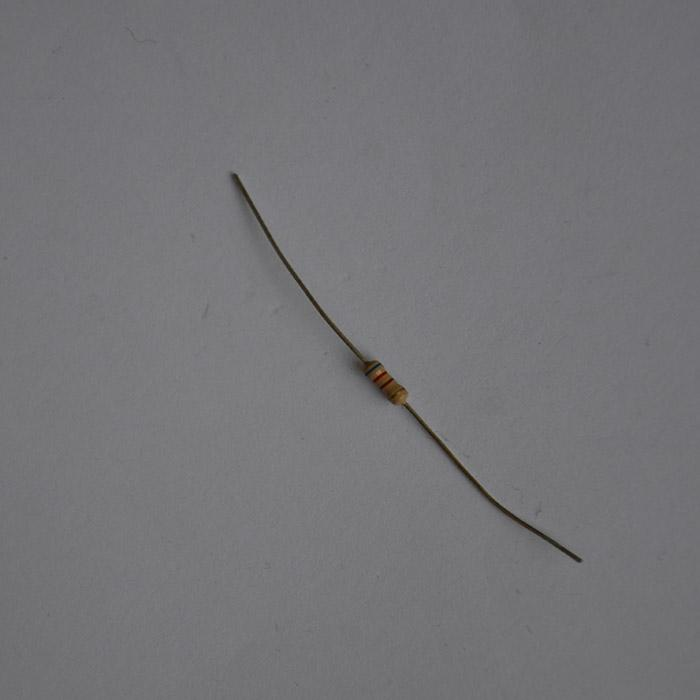resistor: (362, 358, 408, 406)
